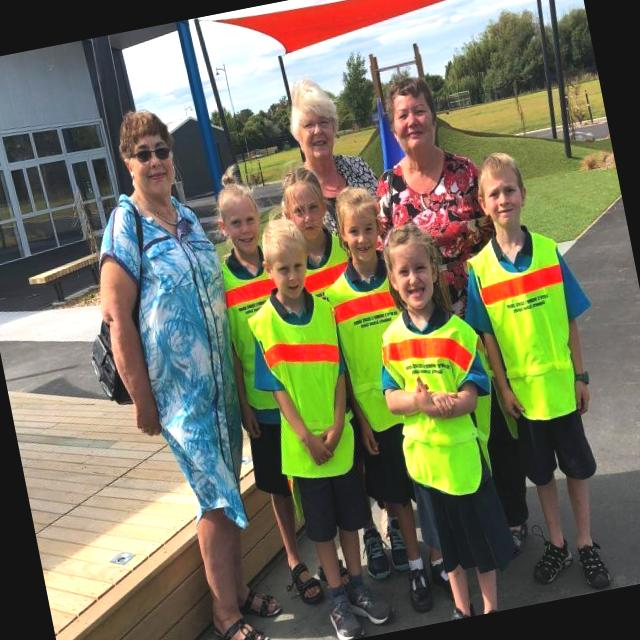no_vest: (106, 180, 264, 534), (367, 134, 492, 228)
vest: (218, 252, 392, 510), (366, 300, 503, 502), (464, 228, 596, 432)
